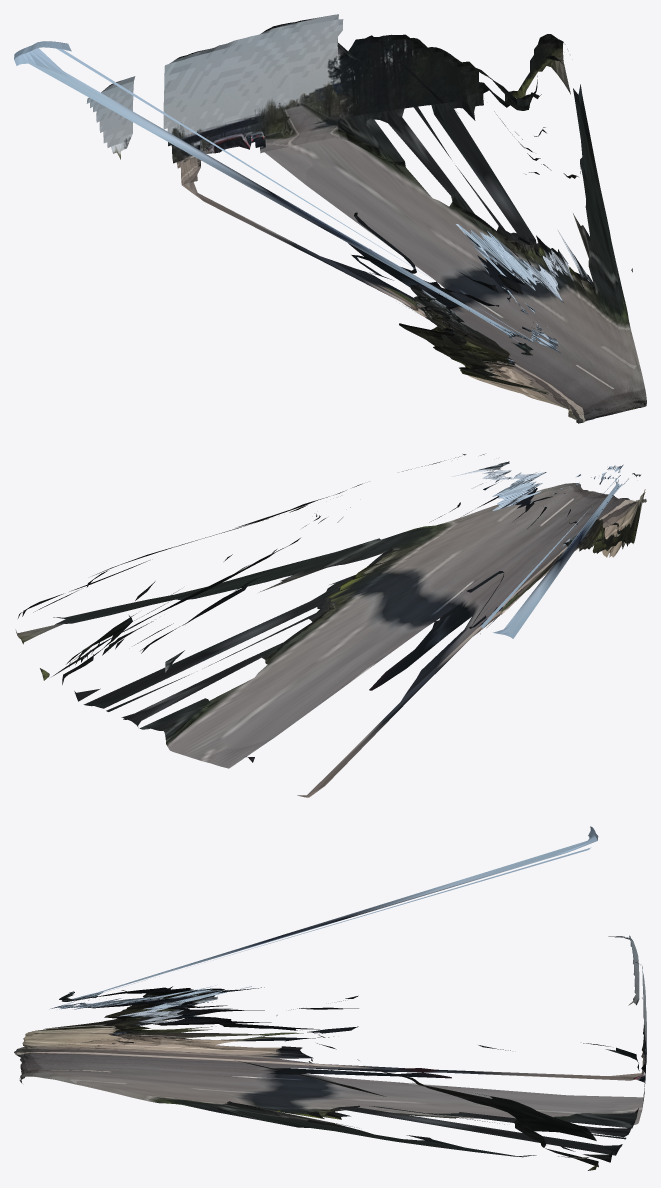
The picture shows the model from 3 angles, top to bottom: view 1: azimuth 30°, elevation 25°; view 2: azimuth 150°, elevation 25°; view 3: azimuth 270°, elevation 25°; orthographic projection. The views are drawn at different scales.
Parts seen in each view (by area): view 1: defaultobject; view 2: defaultobject; view 3: defaultobject.
Boxes of the visible parts, bbox=[...] form: defaultobject: bbox=[14, 14, 646, 423]; defaultobject: bbox=[15, 454, 646, 797]; defaultobject: bbox=[14, 826, 646, 1170].
Bounding box in the file's own units: 36.8 × 13.41 × 44.65.
1 material, 1 textured.
